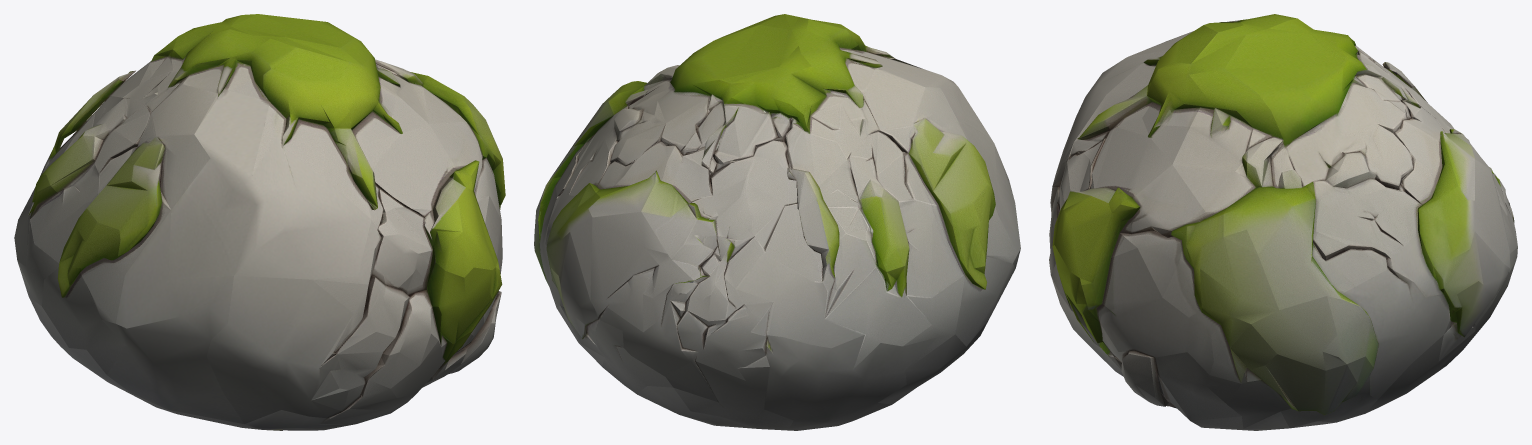
Rendered from mossy_rock.glb.
The picture shows the model from 3 angles, left to right: view 1: azimuth 30°, elevation 25°; view 2: azimuth 150°, elevation 25°; view 3: azimuth 270°, elevation 25°; orthographic projection. The views are drawn at different scales.
Size of the model in its own units: 1.9 by 1.54 by 1.86.
1 material, 1 textured.
